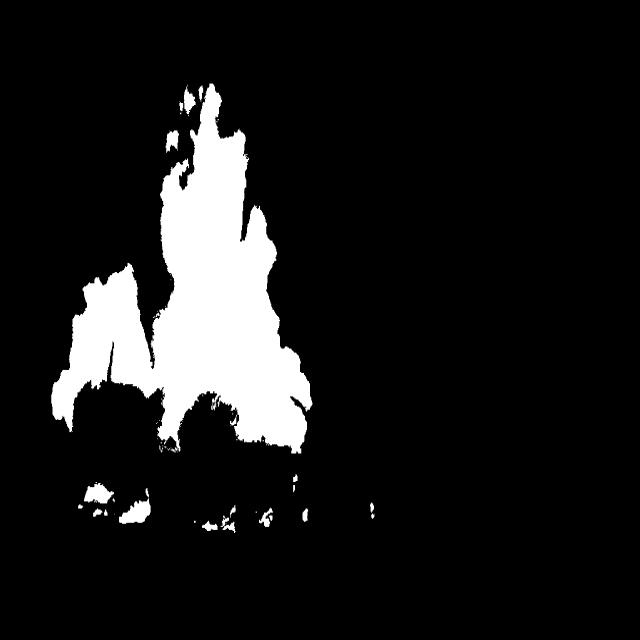fire: (51, 144, 334, 561)
